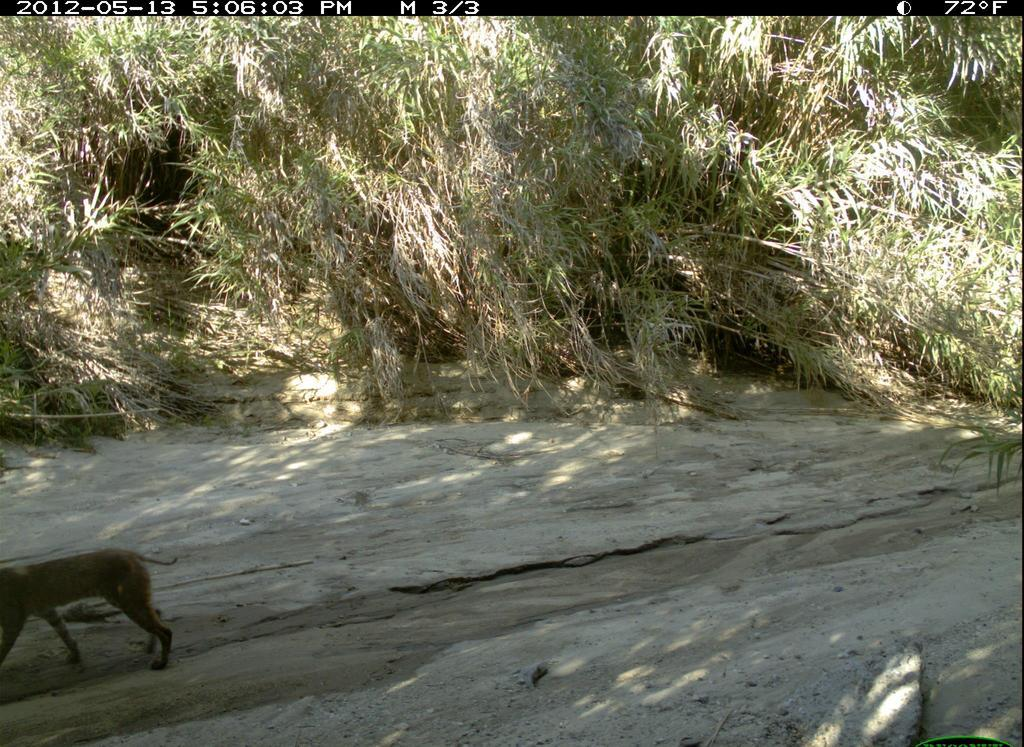bobcat: (3, 533, 217, 683)
